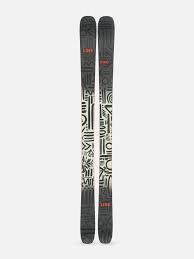skis: (78, 15, 116, 245)
